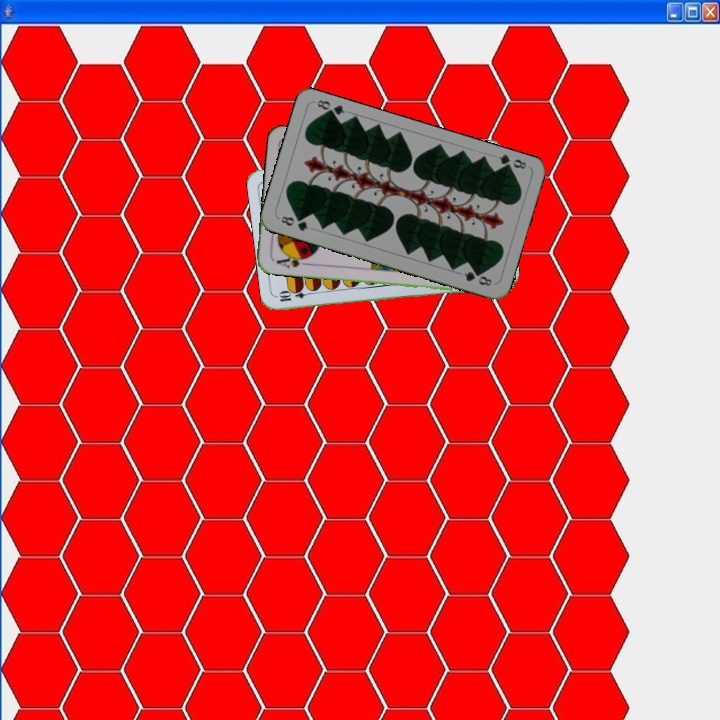E10: (275, 287, 316, 304)
G8: (495, 151, 529, 174), (277, 212, 311, 234)
SA: (272, 251, 311, 270)
